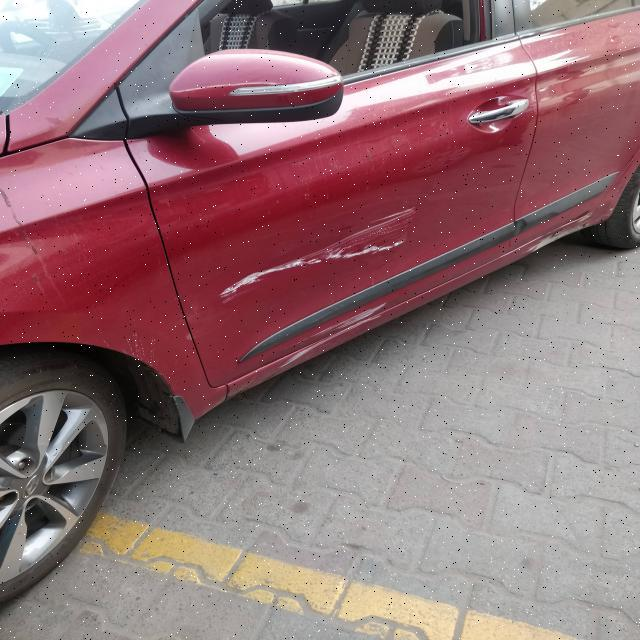doorouter-dent: (195, 110, 522, 388)
